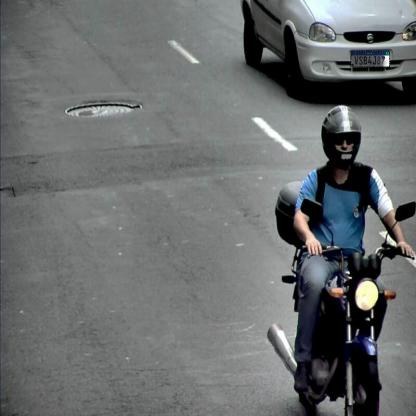PlacaM: (350, 51, 390, 67)
